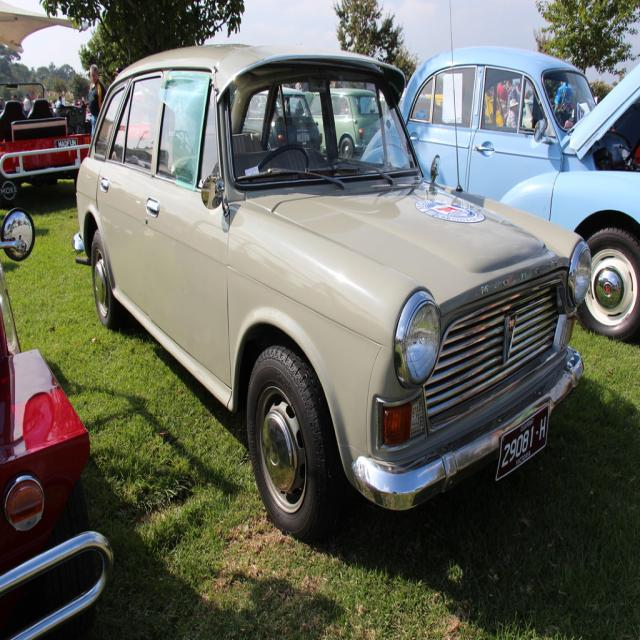car: (75, 66, 620, 539)
